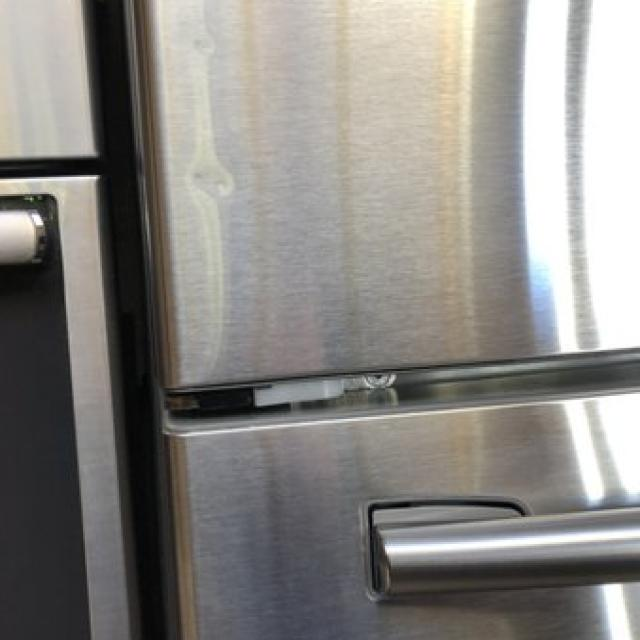dents: (183, 154, 248, 212)
